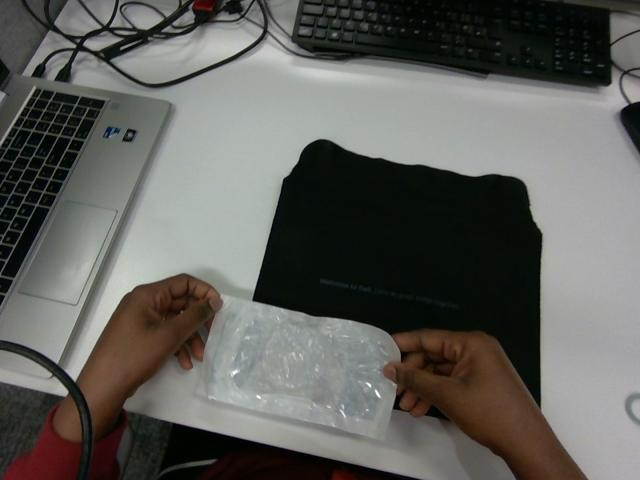gallipot: (204, 295, 399, 438)
